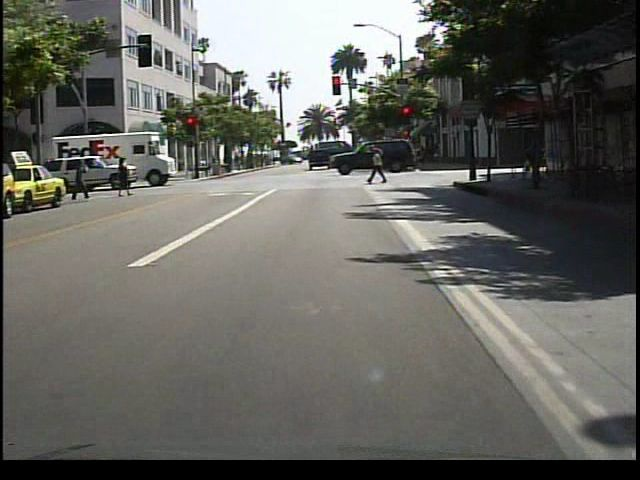person: (520, 136, 549, 190), (69, 159, 94, 203), (367, 146, 390, 185), (113, 154, 132, 200)
